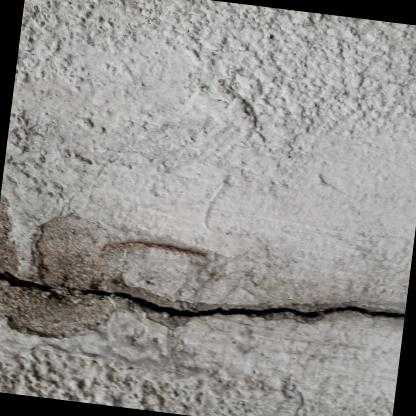crack: (0, 268, 405, 319)
